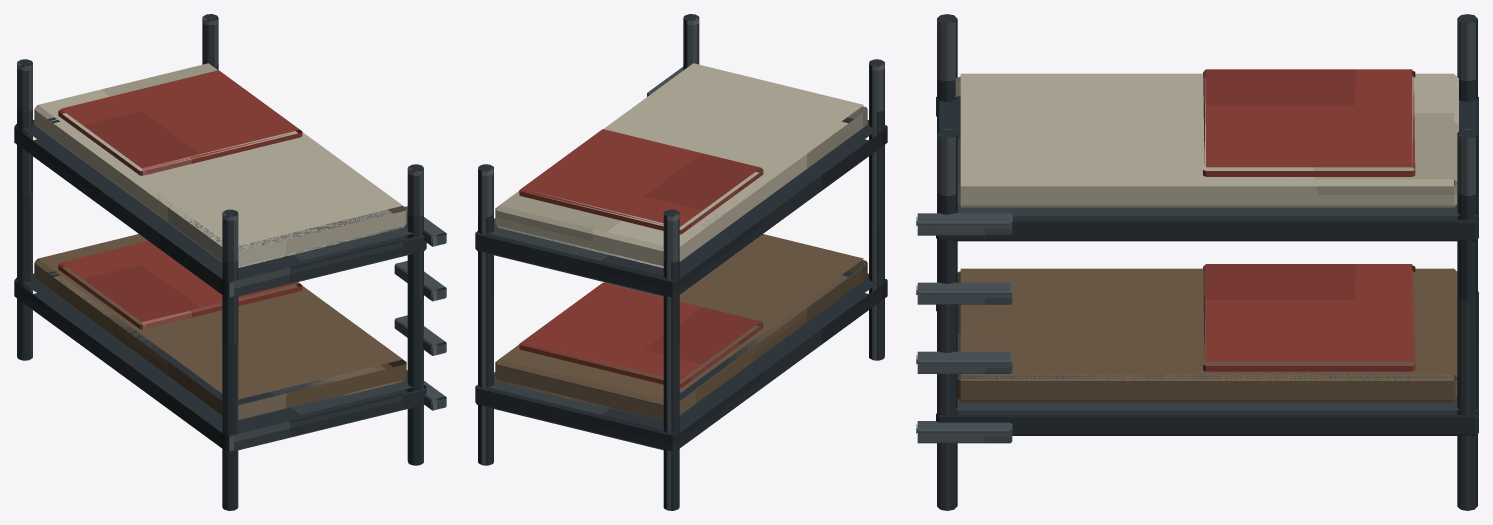
File: prison_bunk.glb
The picture shows the model from 3 angles, left to right: view 1: azimuth 30°, elevation 25°; view 2: azimuth 150°, elevation 25°; view 3: azimuth 270°, elevation 25°; orthographic projection. The views are drawn at different scales.
Visible parts, largest first — view 1: Mattress_1, Mattress_0, Blanket_1, Frame_0, Frame_1, Blanket_0, Post_-0.48_-0.92, Post_0.48_-0.92, Post_-0.48_0.92, Post_0.48_0.92, LadderRung_1, LadderRung_2 (+1 smaller); view 2: Mattress_1, Mattress_0, Blanket_1, Frame_0, Blanket_0, Frame_1, Post_-0.48_0.92, Post_-0.48_-0.92, Post_0.48_0.92, Post_0.48_-0.92; view 3: Mattress_1, Mattress_0, Blanket_1, Blanket_0, Frame_0, Frame_1, Post_0.48_0.92, Post_0.48_-0.92, LadderRung_3, LadderRung_2, LadderRung_1, LadderRung_0 (+2 smaller).
Part boxes in pixels (x1,y1,x2,y2): Mattress_1: [34, 63, 406, 267]; Mattress_0: [34, 234, 406, 419]; Blanket_1: [58, 70, 302, 175]; Frame_0: [14, 271, 426, 451]; Frame_1: [14, 117, 426, 297]; Blanket_0: [58, 241, 302, 329]; Post_-0.48_-0.92: [222, 209, 238, 510]; Post_0.48_-0.92: [407, 164, 423, 465]; Post_-0.48_0.92: [17, 59, 32, 360]; Post_0.48_0.92: [202, 14, 218, 70]; LadderRung_1: [394, 315, 446, 355]; LadderRung_2: [394, 261, 446, 301]; Mattress_1: [495, 63, 867, 267]; Mattress_0: [495, 234, 867, 419]; Blanket_1: [519, 129, 763, 234]; Frame_0: [475, 271, 887, 451]; Blanket_0: [519, 283, 763, 388]; Frame_1: [475, 117, 887, 297]; Post_-0.48_0.92: [663, 209, 679, 510]; Post_-0.48_-0.92: [869, 59, 884, 360]; Post_0.48_0.92: [478, 164, 493, 465]; Post_0.48_-0.92: [683, 14, 699, 70]; Mattress_1: [955, 73, 1458, 207]; Mattress_0: [957, 268, 1457, 402]; Blanket_1: [1203, 69, 1415, 176]; Blanket_0: [1203, 264, 1415, 371]; Frame_0: [936, 291, 1478, 435]; Frame_1: [936, 95, 1478, 241]; Post_0.48_0.92: [1457, 128, 1477, 510]; Post_0.48_-0.92: [937, 128, 957, 510]; LadderRung_3: [916, 213, 1012, 235]; LadderRung_2: [916, 282, 1012, 304]; LadderRung_1: [916, 351, 1012, 373]; LadderRung_0: [916, 421, 1012, 443].
Bounding box in the file's own units: 1.1 × 1.46 × 1.99.
Materials: 2 (2 with a texture image).
